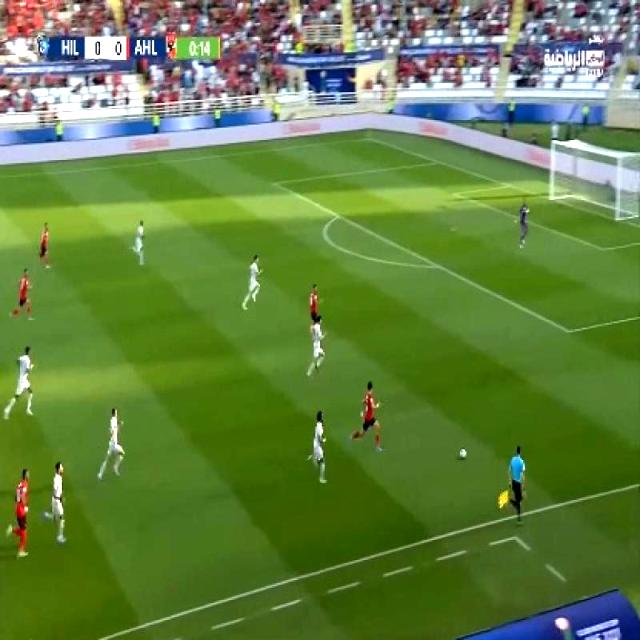bigarea_bottom_inner: (558, 318, 577, 342)
bigarea_top_inner: (266, 174, 284, 192)
bigarea_top_outter: (426, 152, 448, 171)
bottom_arc_area_intersection: (430, 256, 444, 274)
corner: (358, 130, 378, 145)
smallarea_bottom_inner: (594, 240, 609, 258)
smallarea_top_inner: (442, 185, 468, 203)
smallarea_top_outter: (497, 176, 515, 194)
top_arc_area_intersection: (326, 204, 348, 226)
